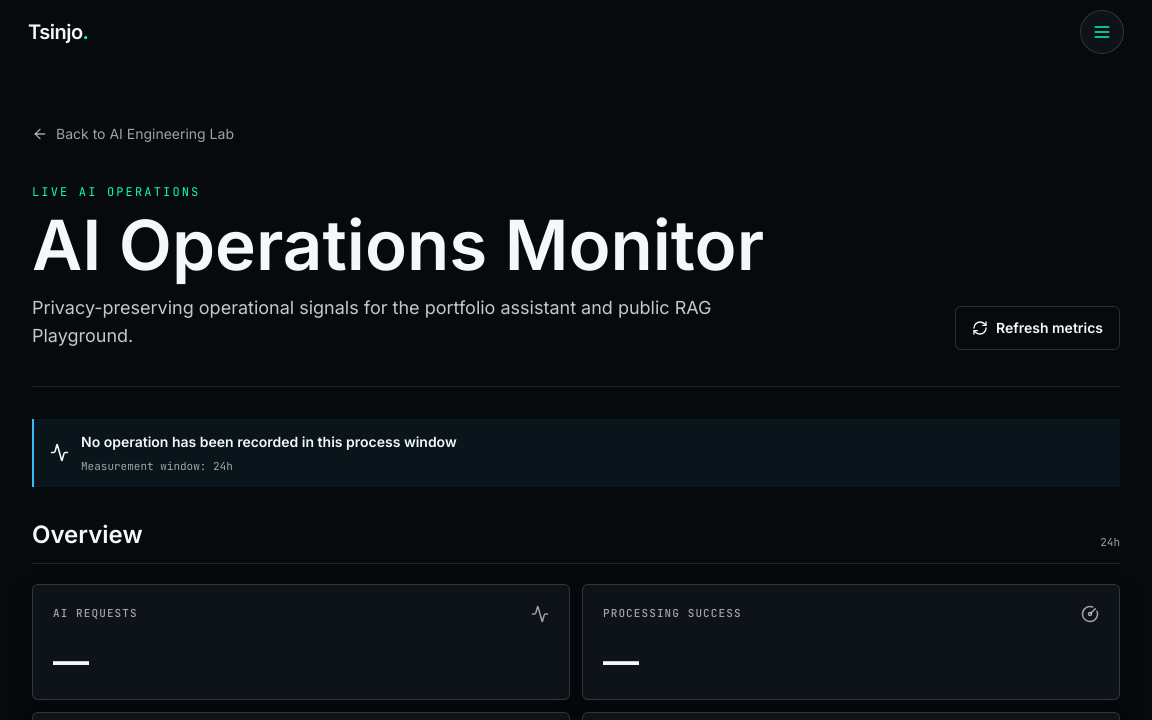
Test case: AI Operations Monitor › uses distinct visual states for no-data and stale summaries
This screenshot has width=1152, height=720.
Check: the text "No operation has been recorded in this process window" is shown, box x1=81 y1=431 x2=457 y2=454
Click the button "Refresh metrics".
click(1038, 328)  # box x1=955 y1=306 x2=1120 y2=350
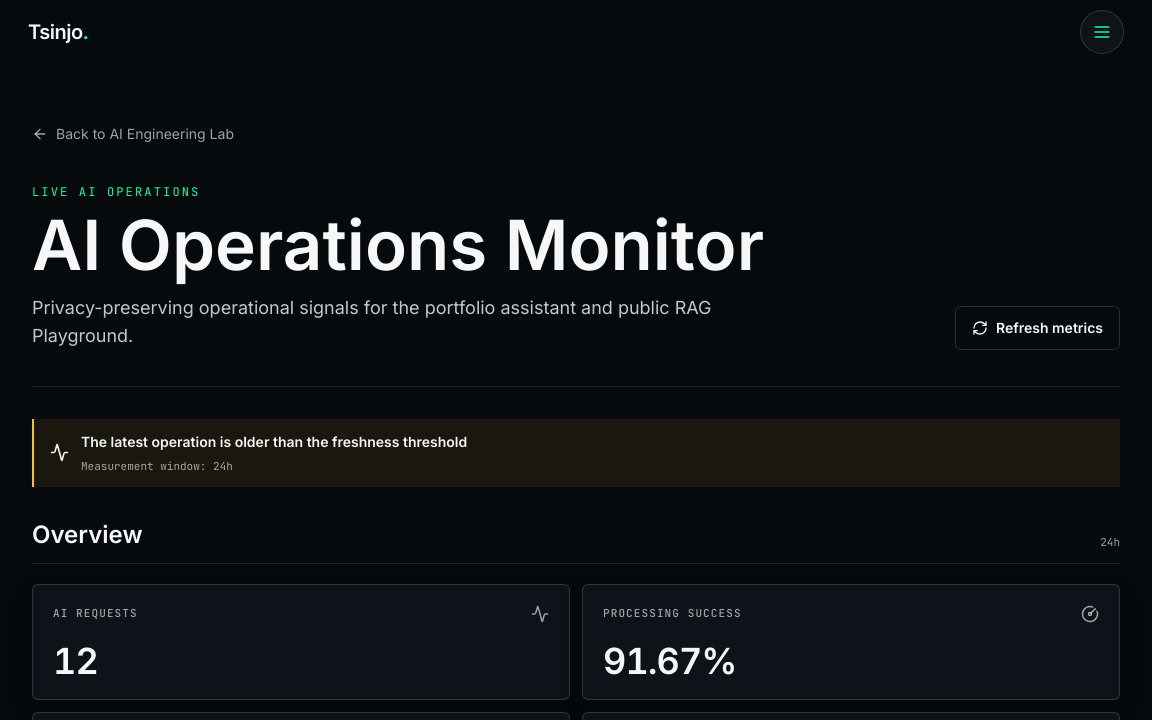
Check: the text "The latest operation is older than the freshness threshold" is shown, box x1=81 y1=431 x2=467 y2=454
